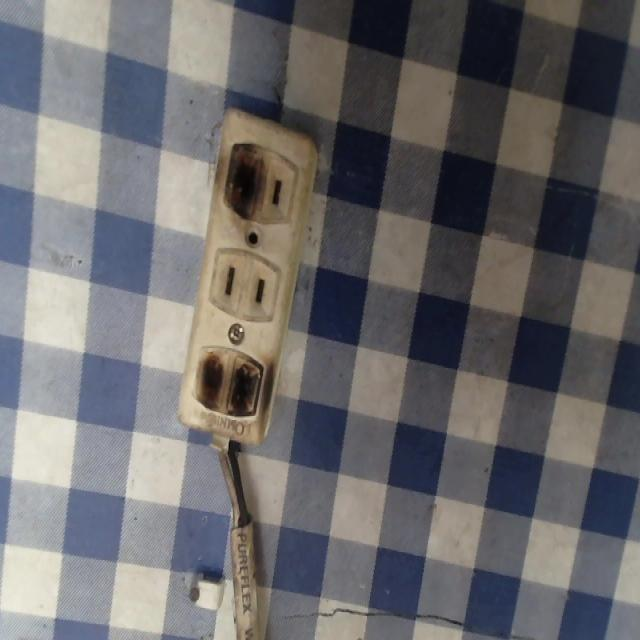-: (195, 341, 273, 428), (217, 132, 270, 227)
